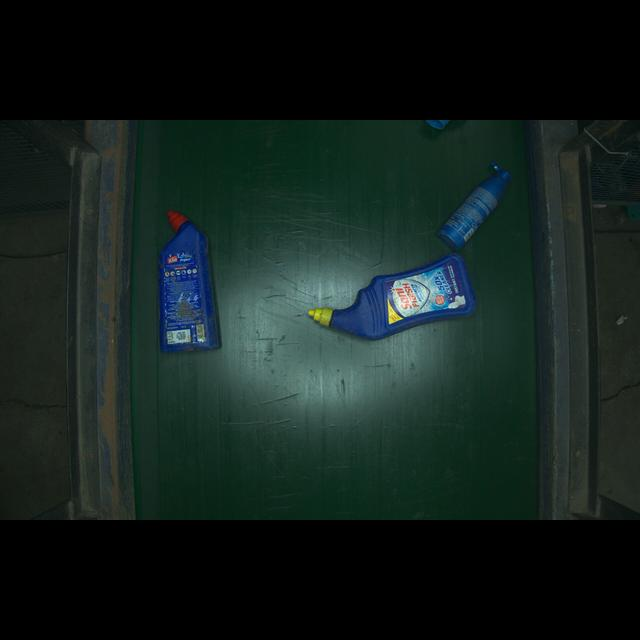mix HD: (291, 254, 488, 341), (147, 209, 236, 374), (430, 157, 523, 243)
